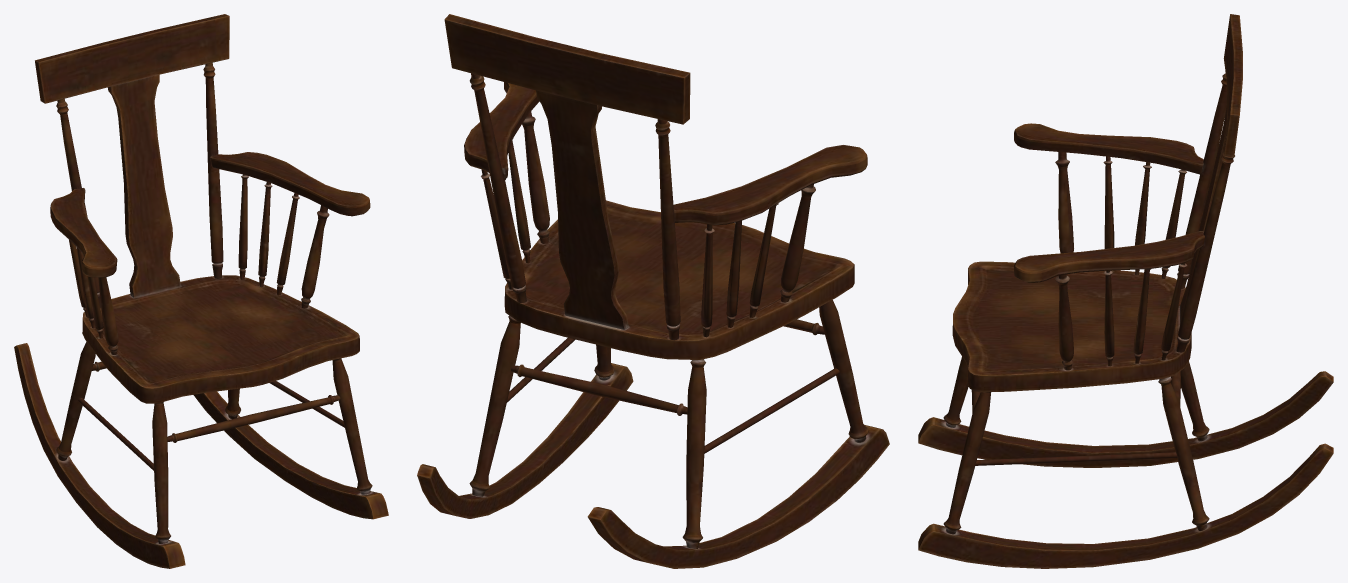
The model's file is Rockingchair_01.glb.
3 renders of one model, left to right at view 1: azimuth 30°, elevation 25°; view 2: azimuth 150°, elevation 25°; view 3: azimuth 270°, elevation 25°, orthographic. The views are drawn at different scales.
Parts seen in each view (by area): view 1: Rockingchair_01_0; view 2: Rockingchair_01_0; view 3: Rockingchair_01_0.
Boxes of the visible parts, <box> form: Rockingchair_01_0: <box>14,14,388,568</box>; Rockingchair_01_0: <box>417,14,889,568</box>; Rockingchair_01_0: <box>918,14,1333,568</box>.
Bounding box in the file's own units: 0.7081 × 0.9949 × 0.8335.
1 material, 1 textured.
